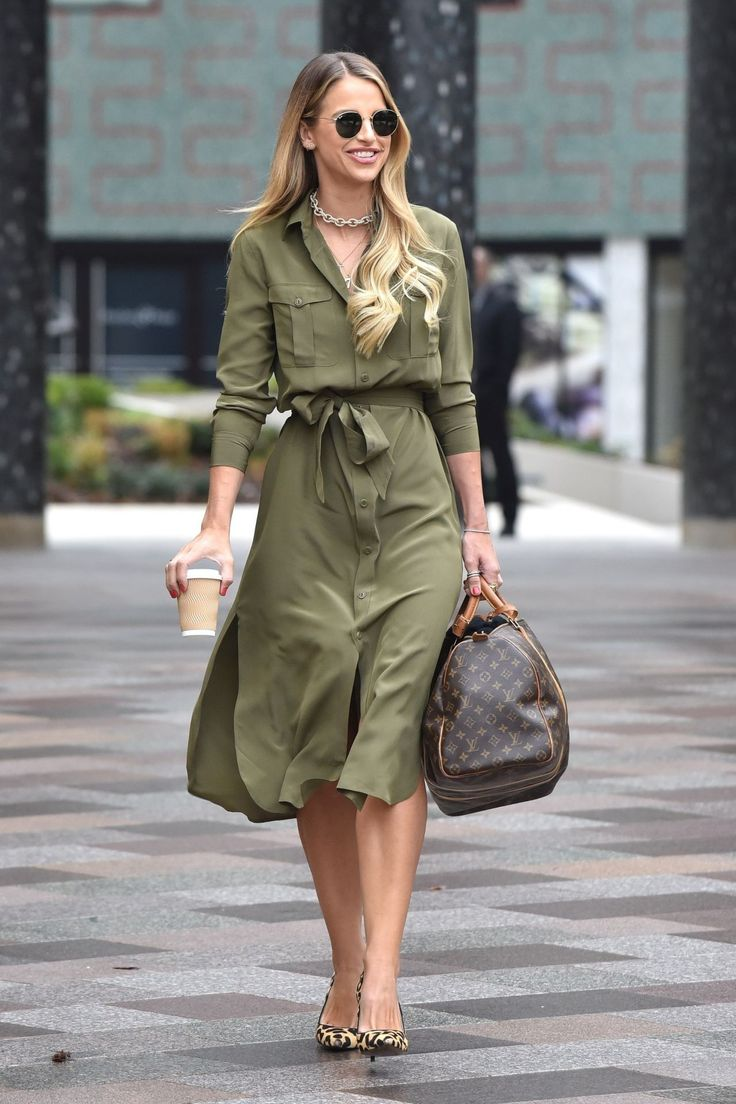person: (152, 37, 521, 1069)
